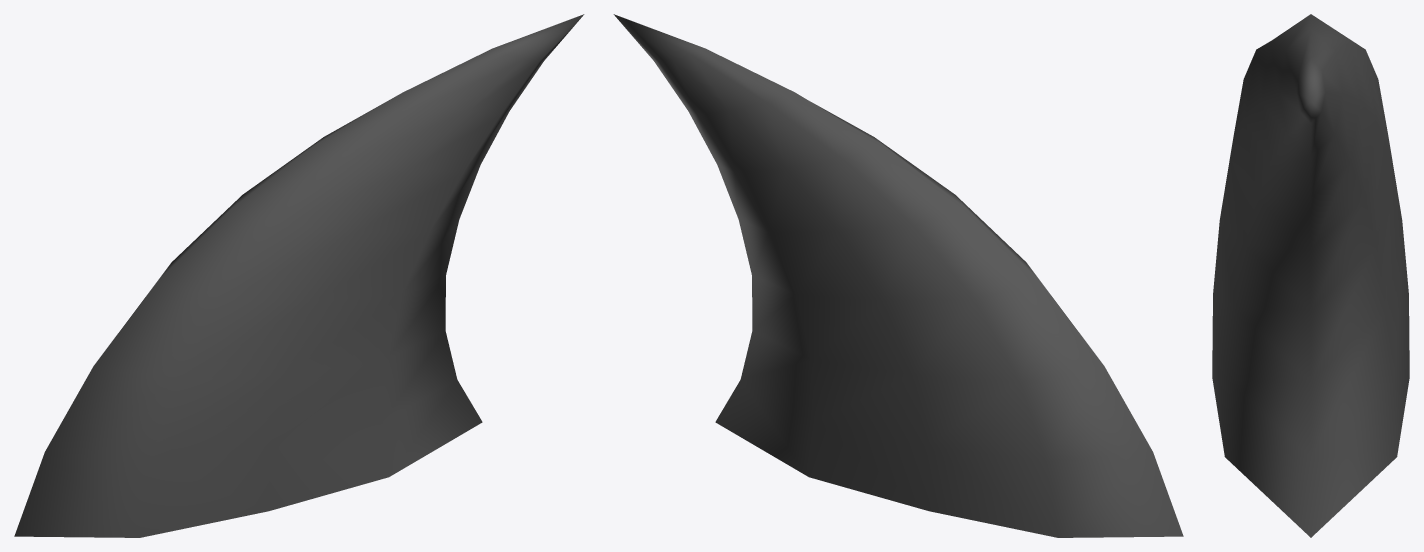
File: 01bcaf39-069d-425a-9037-d7913c43a743.glb
3 renders of one model, left to right at view 1: azimuth 30°, elevation 25°; view 2: azimuth 150°, elevation 25°; view 3: azimuth 270°, elevation 25°, orthographic. The views are drawn at different scales.
Visible parts, largest first — view 1: TileSharkFin; view 2: TileSharkFin; view 3: TileSharkFin.
Part boxes in pixels (x1=…): TileSharkFin: x1=14, y1=14, x2=584, y2=537; TileSharkFin: x1=613, y1=14, x2=1183, y2=537; TileSharkFin: x1=1212, y1=14, x2=1409, y2=537.
Size of what is drawn, in the model's own units: 1.41 by 0.9035 by 0.322.
1 material, 1 textured.
